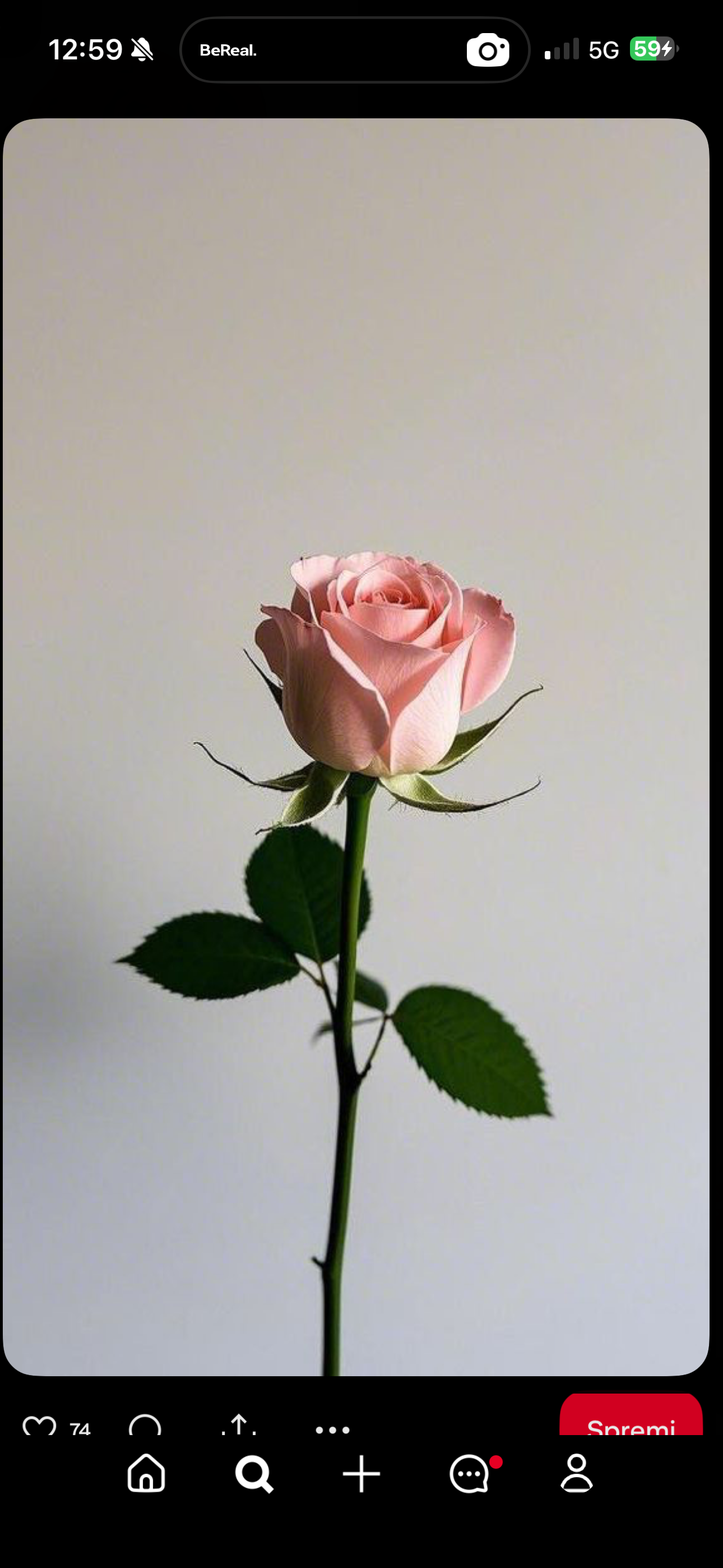rose: (248, 549, 518, 783)
